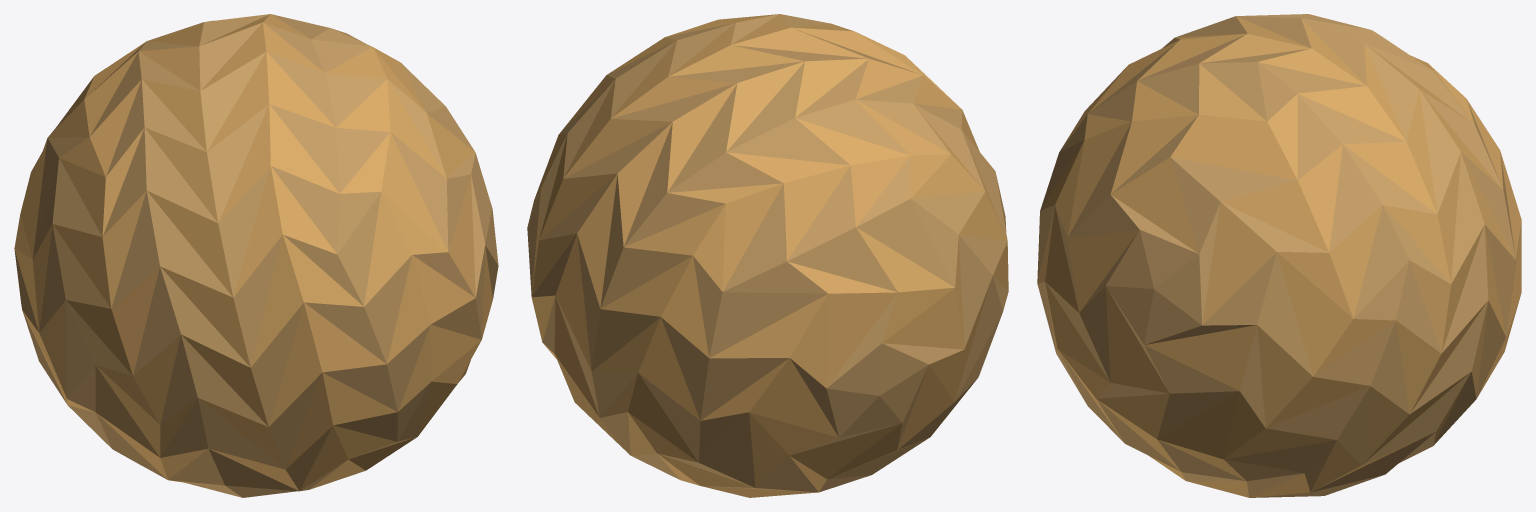
File: saturn.fbx
3 views of the same model, side by side, from view 1: azimuth 30°, elevation 25°; view 2: azimuth 150°, elevation 25°; view 3: azimuth 270°, elevation 25° (orthographic).
Visible parts, largest first — view 1: Saturn; view 2: Saturn; view 3: Saturn.
Boxes of the visible parts, x1,y1,x2,y2 form: Saturn: (14,14,498,497); Saturn: (527,14,1008,497); Saturn: (1037,14,1521,497).
Bounding box in the file's own units: 287 × 288 × 288.
